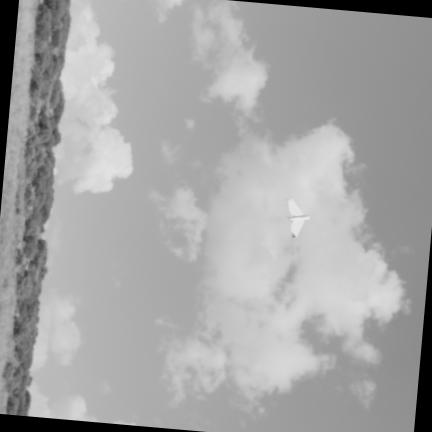Shahed: (283, 199, 310, 238)
